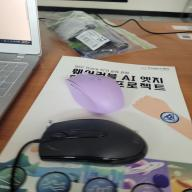mouse: (41, 118, 146, 166), (67, 72, 127, 115)
